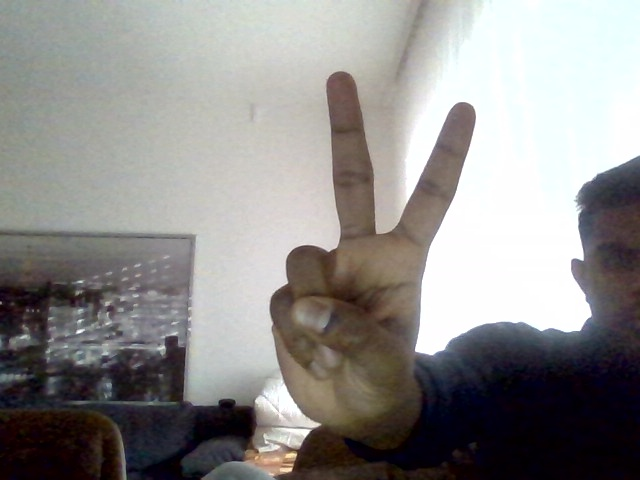livel: (270, 72, 477, 455)
